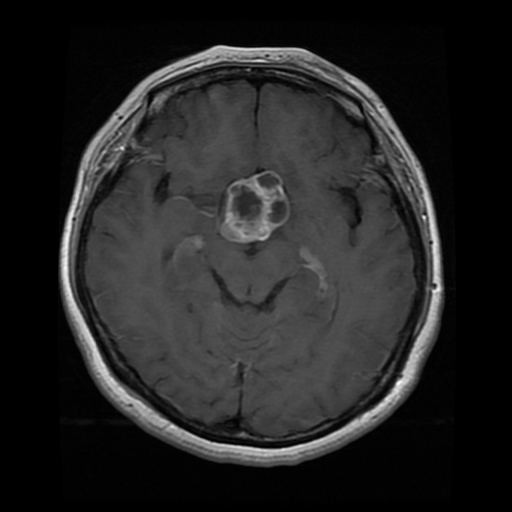pituitary: (220, 170, 289, 243)
